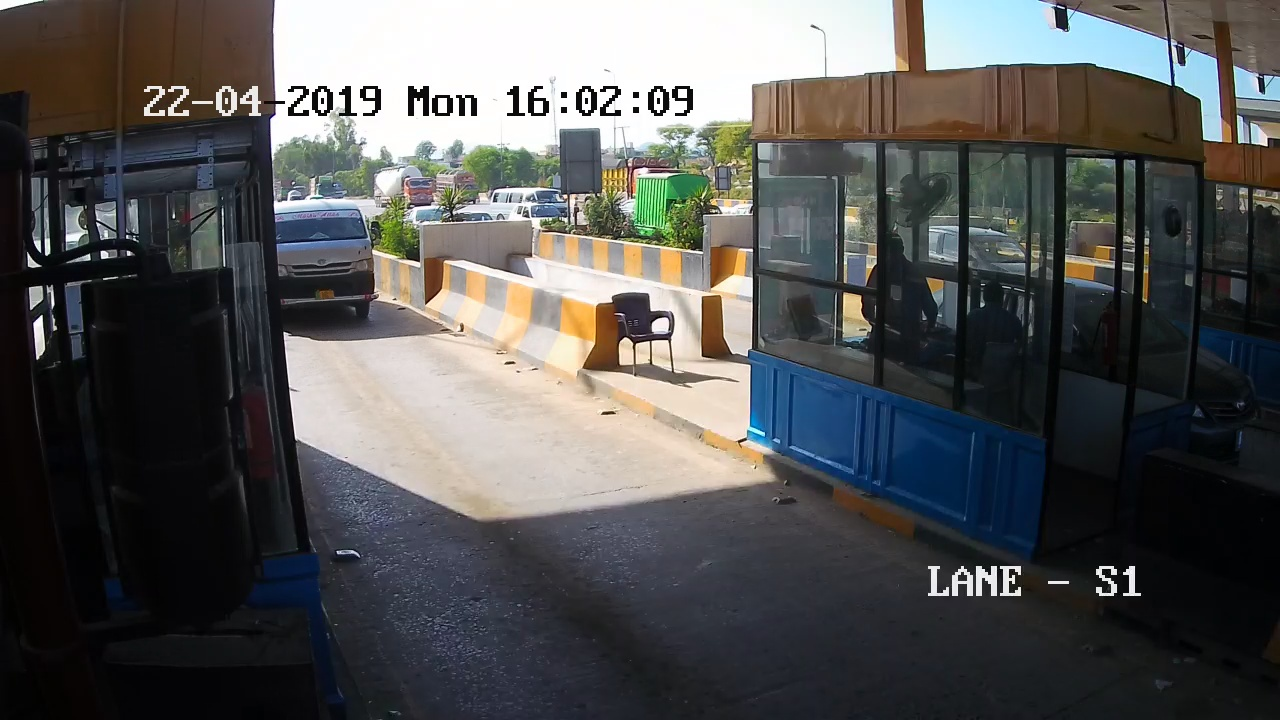car: (273, 187, 397, 354)
